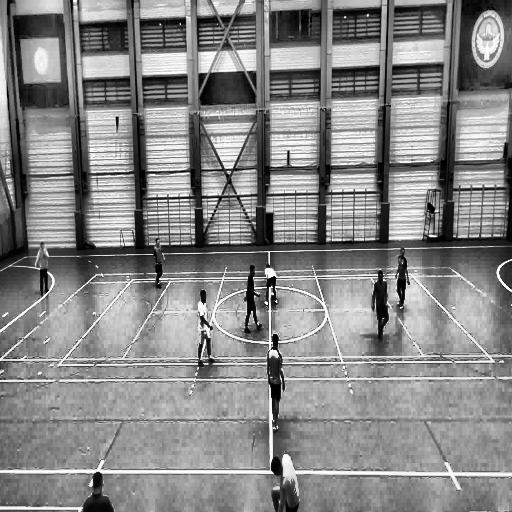ball: (271, 291, 276, 300)
player: (267, 332, 285, 434), (270, 454, 300, 512), (198, 290, 215, 366), (244, 265, 261, 334), (372, 269, 388, 342), (34, 240, 50, 295), (396, 249, 410, 311), (264, 261, 277, 306), (153, 238, 164, 289)
